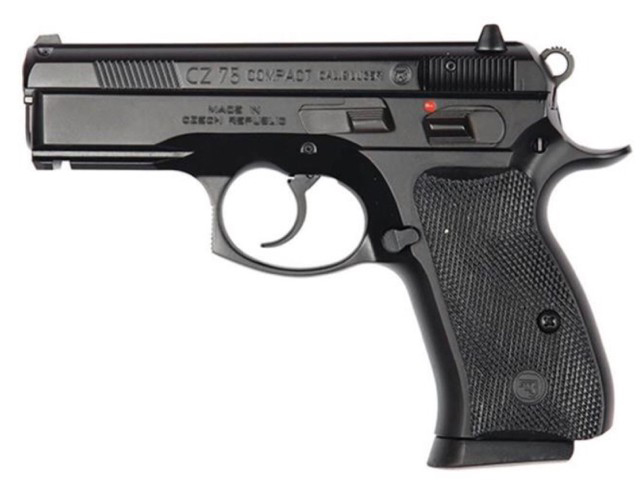gun: (12, 15, 634, 479)
